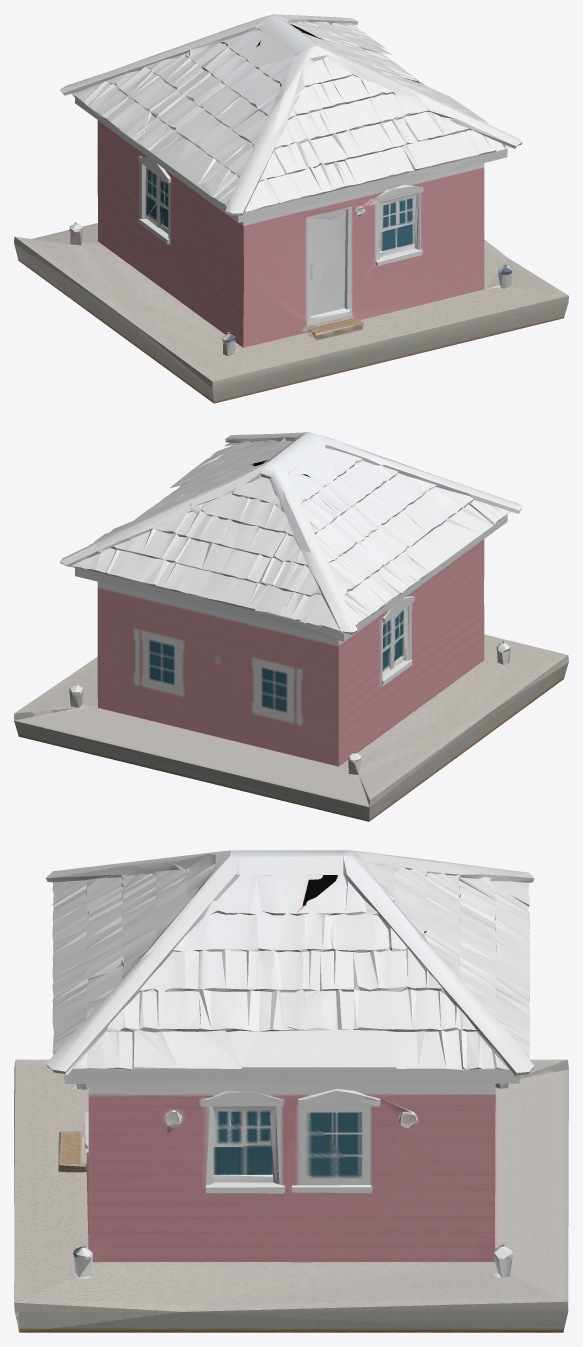
File: bermuda-house-a.glb
3 renders of one model, top to bottom at view 1: azimuth 30°, elevation 25°; view 2: azimuth 150°, elevation 25°; view 3: azimuth 270°, elevation 25°, orthographic. The views are drawn at different scales.
Visible parts, largest first — view 1: output_unwrapped; view 2: output_unwrapped; view 3: output_unwrapped.
Boxes of the visible parts, left/top/right/bottom form: output_unwrapped: left=14, top=14, right=568, bottom=403; output_unwrapped: left=14, top=432, right=568, bottom=821; output_unwrapped: left=14, top=850, right=568, bottom=1332.
Bounding box in the file's own units: 1.9 × 1.32 × 1.84.
Materials: 1 (1 with a texture image).
